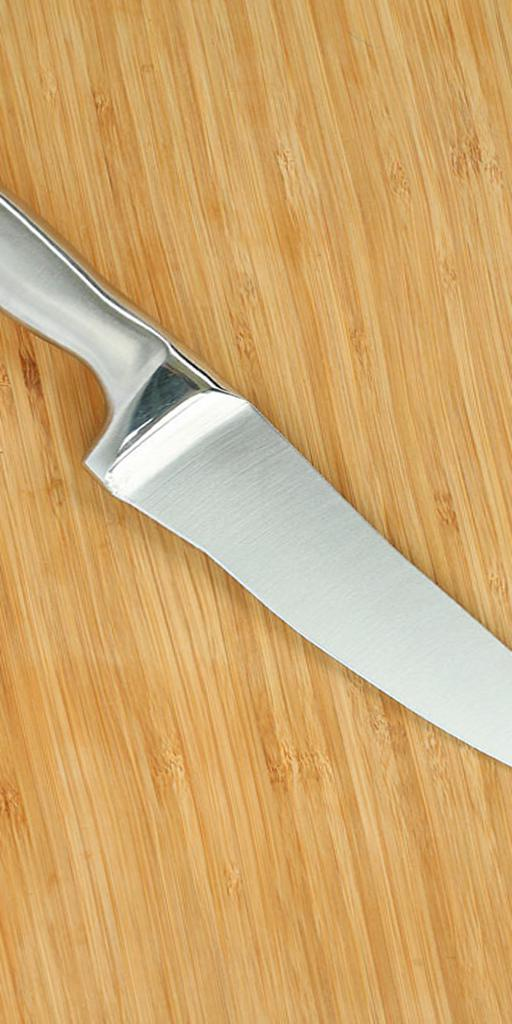knife: (1, 188, 512, 766)
